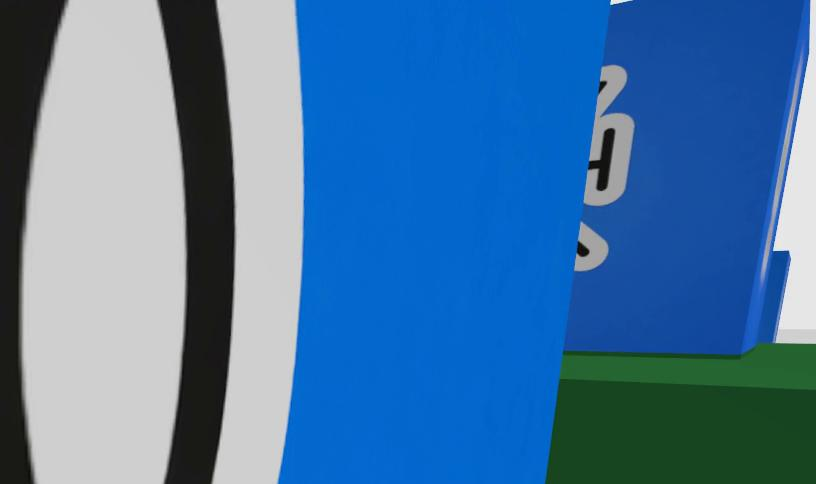KFS_REAL: (0, 0, 431, 483), (566, 0, 809, 355)
